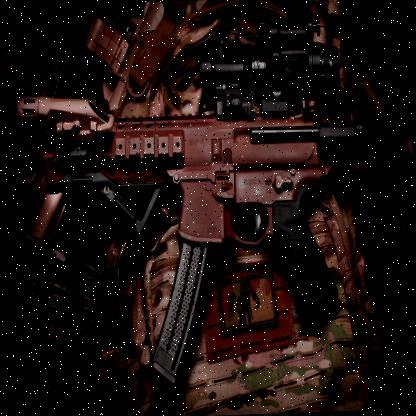rifle: (10, 54, 412, 409)
